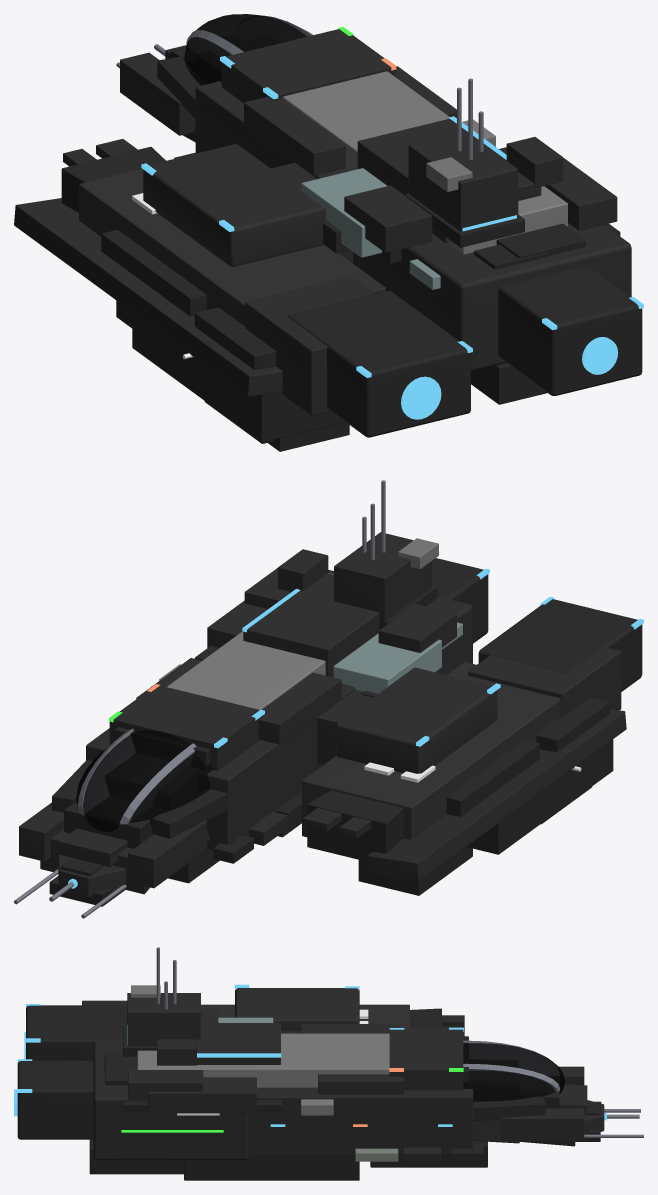
File: drone_carrier.glb
3 renders of one model, top to bottom at view 1: azimuth 30°, elevation 25°; view 2: azimuth 150°, elevation 25°; view 3: azimuth 270°, elevation 25°, orthographic. The views are drawn at different scales.
Parts seen in each view (by area): view 1: tdb_right_engine, tdb_right_pod_upper, tdb_center_engine, tdb_rear_block, tdb_right_pod_main, tdb_right_sponson, tdb_upper_backbone, tdb_forward_roof_right, tdb_right_pod_tail, tdb_dorsal_tower, tdb_right_pod_hangar, tdb_mid_deck_starboard (+24 smaller); view 2: tdb_right_pod_main, tdb_right_pod_upper, tdb_right_sponson, tdb_cockpit_glass, tdb_core_spine, tdb_right_engine, tdb_dorsal_base, tdb_forward_roof_right, tdb_upper_backbone, tdb_dorsal_tower, tdb_right_pod_tail, tdb_right_pod_front (+30 smaller); view 3: tdb_core_spine, tdb_rear_block, tdb_upper_backbone, tdb_center_engine, tdb_right_engine, tdb_right_pod_upper, tdb_forward_roof_right, tdb_cockpit_glass, tdb_under_core, tdb_dorsal_tower, tdb_left_dorsal_step, tdb_dorsal_base (+24 smaller).
Part boxes in pixels (x1,y1,x2,y2): tdb_right_engine: (287, 291, 470, 437); tdb_right_pod_upper: (143, 143, 325, 266); tdb_center_engine: (498, 265, 642, 395); tdb_rear_block: (352, 223, 631, 371); tdb_right_pod_main: (79, 168, 385, 326); tdb_right_sponson: (14, 198, 282, 396); tdb_upper_backbone: (282, 71, 567, 254); tdb_forward_roof_right: (221, 29, 395, 102); tdb_right_pod_tail: (245, 276, 374, 415); tdb_dorsal_tower: (408, 131, 518, 231); tdb_right_pod_hangar: (132, 312, 345, 442); tdb_mid_deck_starboard: (244, 96, 345, 175); tdb_right_pod_main: (302, 662, 560, 839); tdb_right_pod_upper: (336, 667, 497, 773); tdb_right_sponson: (367, 709, 626, 881); tdb_cockpit_glass: (76, 730, 212, 831); tdb_core_spine: (86, 645, 355, 850); tdb_right_engine: (478, 599, 642, 691); tdb_dorsal_base: (243, 573, 379, 677); tdb_forward_roof_right: (109, 685, 264, 770); tdb_upper_backbone: (167, 573, 333, 709); tdb_dorsal_tower: (334, 532, 431, 627); tdb_right_pod_tail: (468, 647, 621, 716); tdb_right_pod_front: (307, 790, 403, 861); tdb_core_spine: (249, 1085, 473, 1155); tdb_rear_block: (93, 1041, 249, 1159); tdb_upper_backbone: (137, 1033, 389, 1087); tdb_center_engine: (17, 1060, 93, 1139); tdb_right_engine: (26, 1005, 127, 1060); tdb_right_pod_upper: (235, 988, 359, 1031); tdb_forward_roof_right: (389, 1028, 463, 1090); tdb_cockpit_glass: (463, 1043, 565, 1101); tdb_under_core: (184, 1155, 359, 1180); tdb_dorsal_tower: (127, 993, 200, 1046); tdb_left_dorsal_step: (148, 1077, 256, 1113); tdb_dorsal_base: (197, 1023, 280, 1064).
Size of the model in its own units: 10.9 by 8.35 by 22.22.
